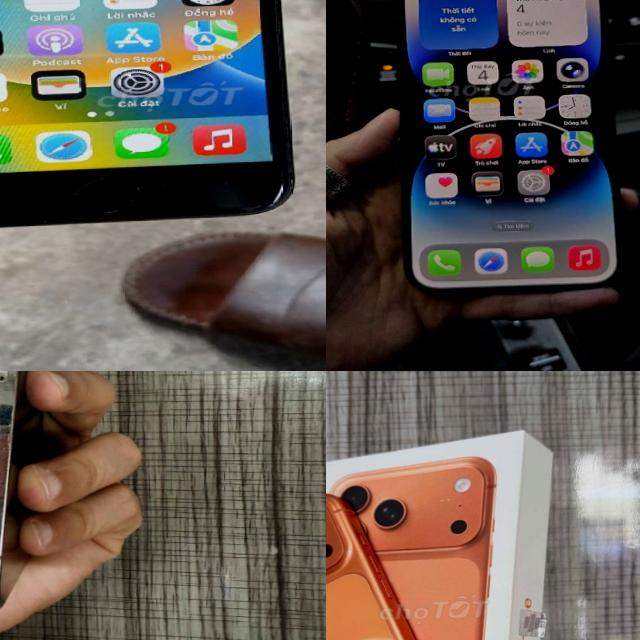gen_14: (387, 0, 626, 303), (0, 371, 53, 608)
gen_17: (326, 492, 486, 640)
gen_7_8: (0, 0, 292, 225)
